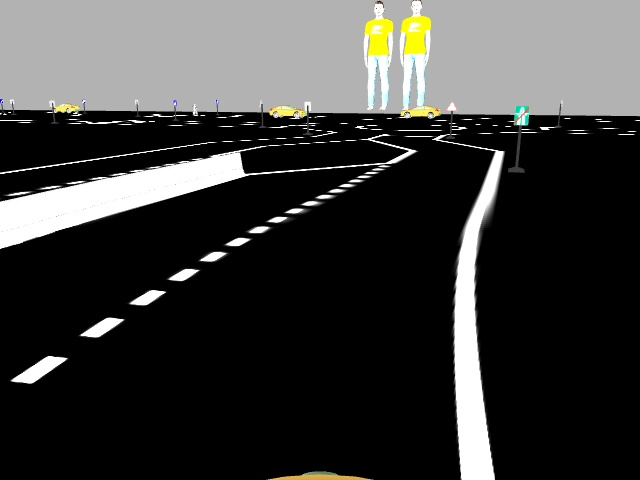HighwayExit: (511, 104, 529, 125)
